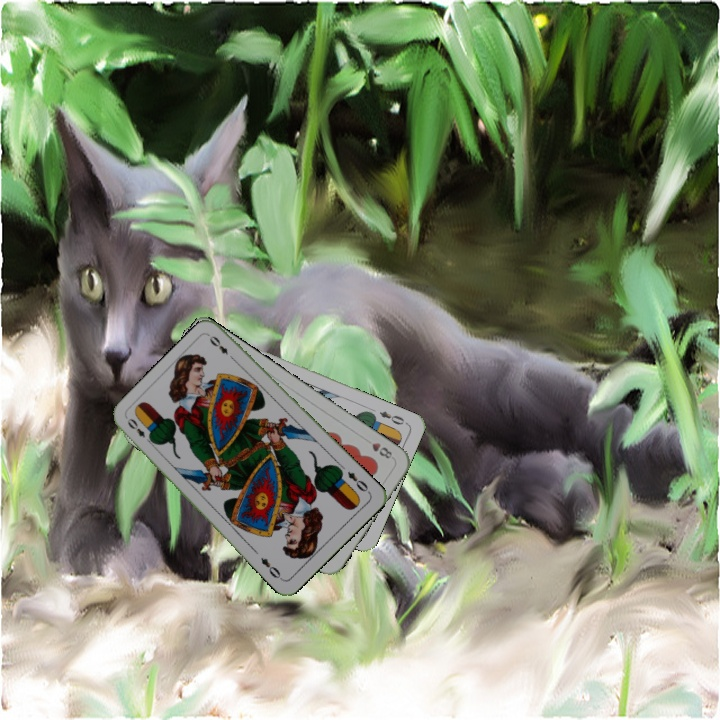EO: (123, 414, 156, 447), (343, 467, 373, 496), (375, 407, 410, 428)
H8: (367, 438, 395, 461)
